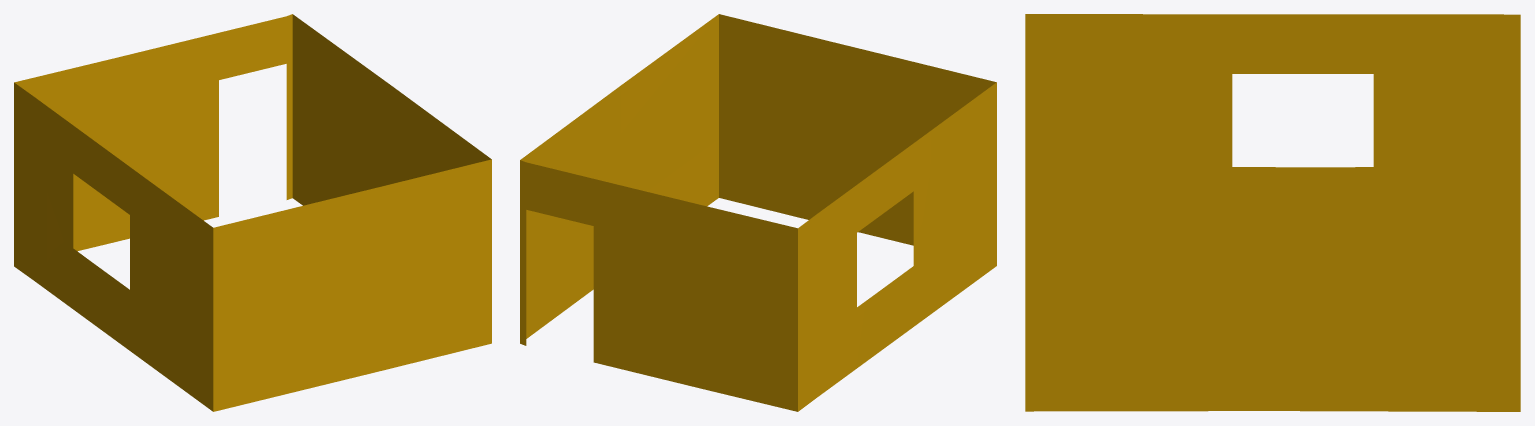
3 views of the same model, side by side, from view 1: azimuth 30°, elevation 25°; view 2: azimuth 150°, elevation 25°; view 3: azimuth 270°, elevation 25° (orthographic). The views are drawn at different scales.
Parts seen in each view (by area): view 1: BH07_WP_07; view 2: BH07_WP_07; view 3: BH07_WP_07.
Boxes of the visible parts, x1,y1,x2,y2 form: BH07_WP_07: (14, 14, 491, 411); BH07_WP_07: (520, 14, 996, 411); BH07_WP_07: (1025, 14, 1520, 411).
Size of the model in its own units: 475 by 303 by 589.
